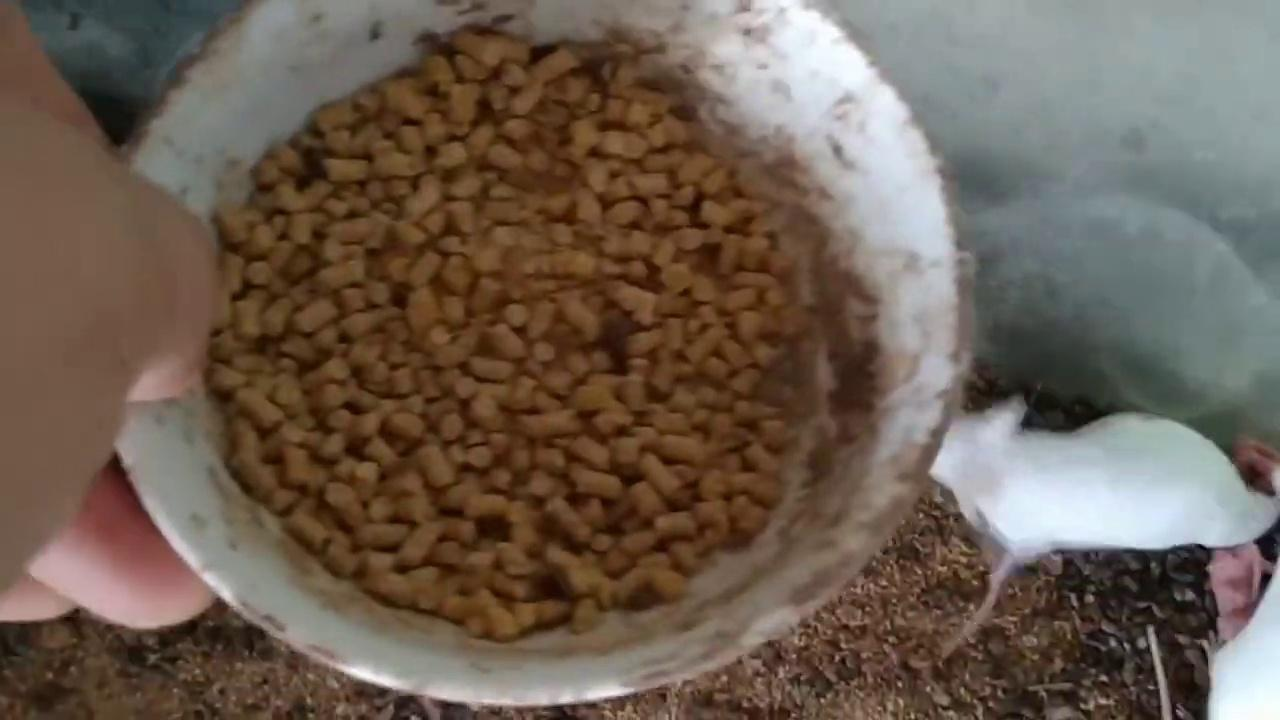rat: (934, 399, 1280, 646)
